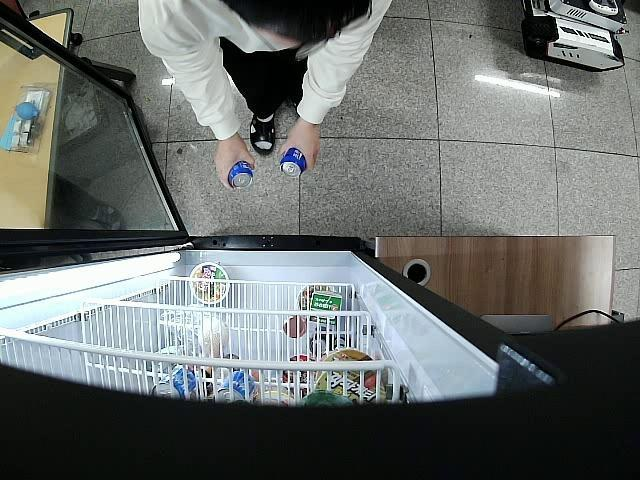13_pocariSweat: (279, 146, 306, 178), (226, 161, 254, 188)
